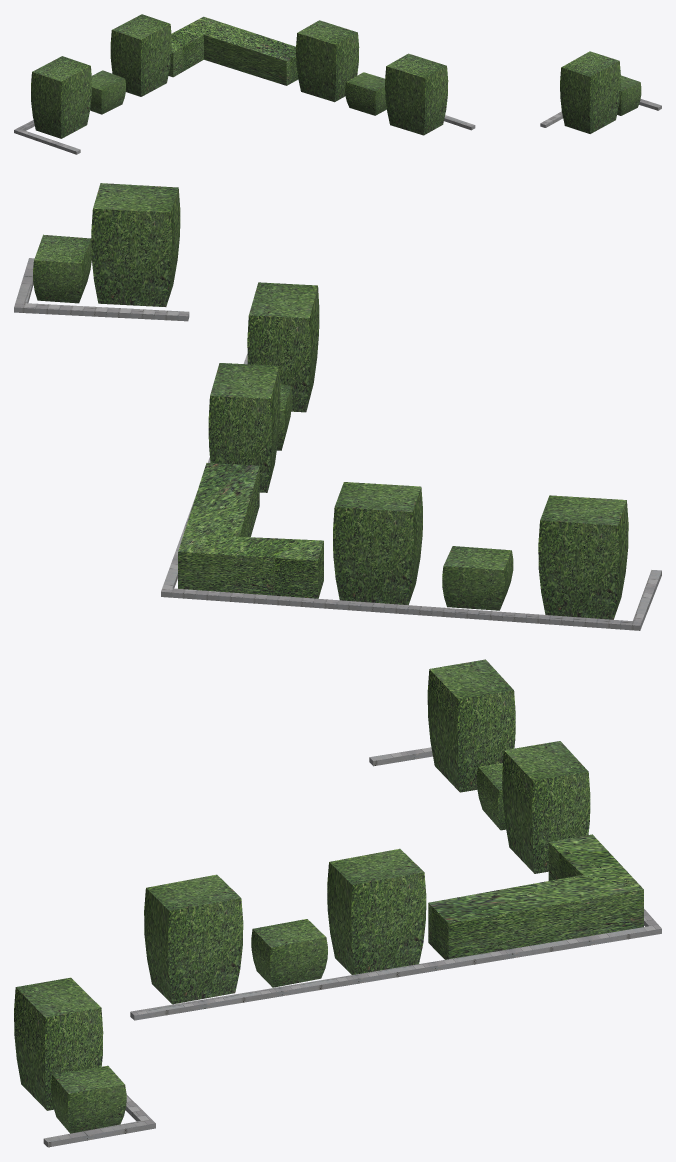
File: GSP_Bushes_A.FBX
3 views of the same model, one above another, from view 1: azimuth 30°, elevation 25°; view 2: azimuth 150°, elevation 25°; view 3: azimuth 270°, elevation 25° (orthographic). The views are drawn at different scales.
Parts seen in each view (by area): view 1: bush_GSP, pavement_element_GSP; view 2: bush_GSP, pavement_element_GSP; view 3: bush_GSP, pavement_element_GSP.
Boxes of the visible parts, left/top/right/bottom form: bush_GSP: left=31, top=14, right=641, bottom=138; pavement_element_GSP: left=14, top=99, right=661, bottom=154; bush_GSP: left=33, top=183, right=628, bottom=619; pavement_element_GSP: left=14, top=258, right=661, bottom=630; bush_GSP: left=14, top=659, right=643, bottom=1133; pavement_element_GSP: left=43, top=747, right=661, bottom=1147.
Bounding box in the file's own units: 2576 × 284 × 1742.
2 materials, 2 textured.
